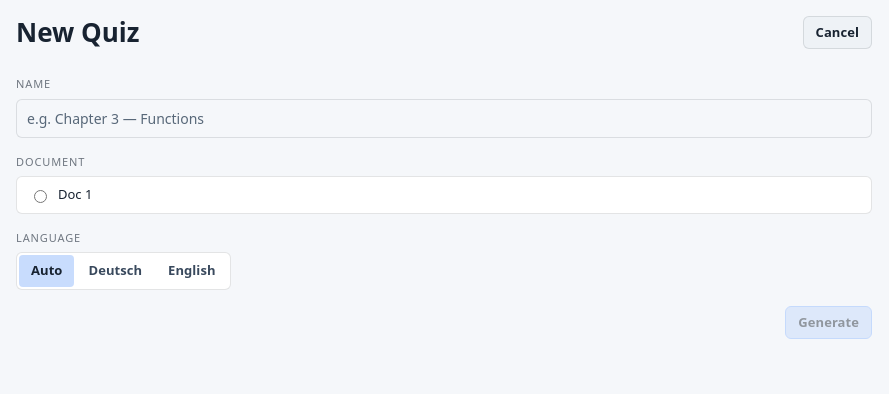
Test: CreateQuizDialog › shows the empty-material hint when the estimate is zero
The image size is (889, 394).
Click the radio button labelled "Doc 1". click: coordinates (40, 196)
box: [34,190,47,203]
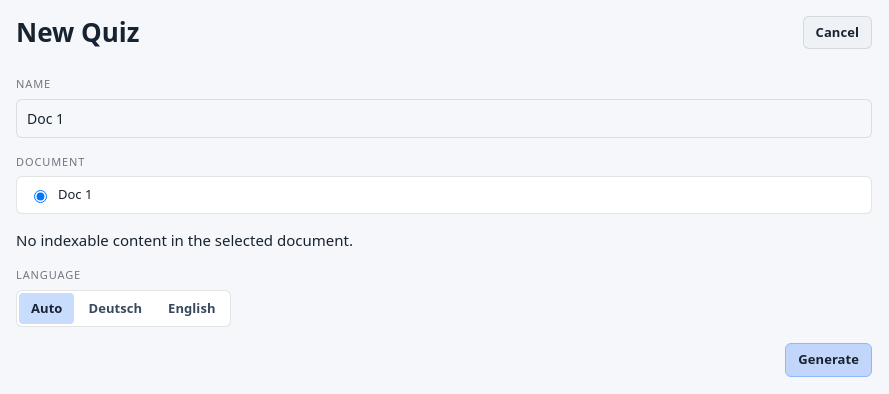
Check: the text "No indexable content in the selected document." is shown, box [16,230,353,250]
